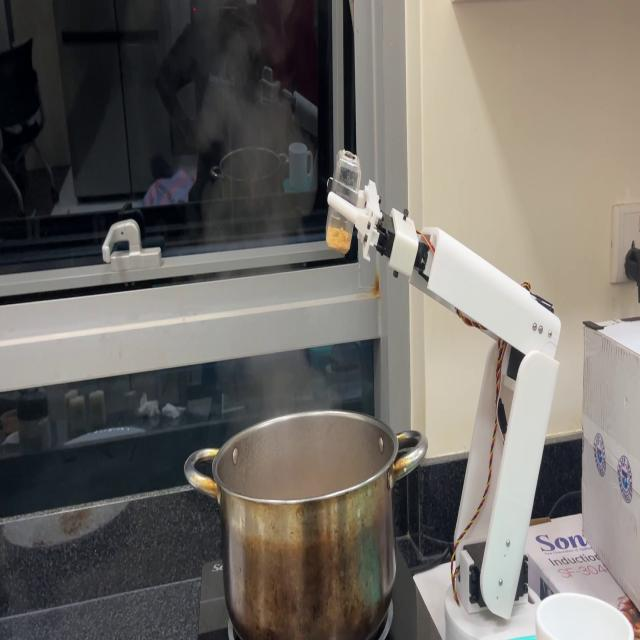cooking_pot: (180, 412, 429, 628)
garlic_powder: (328, 223, 354, 261)
